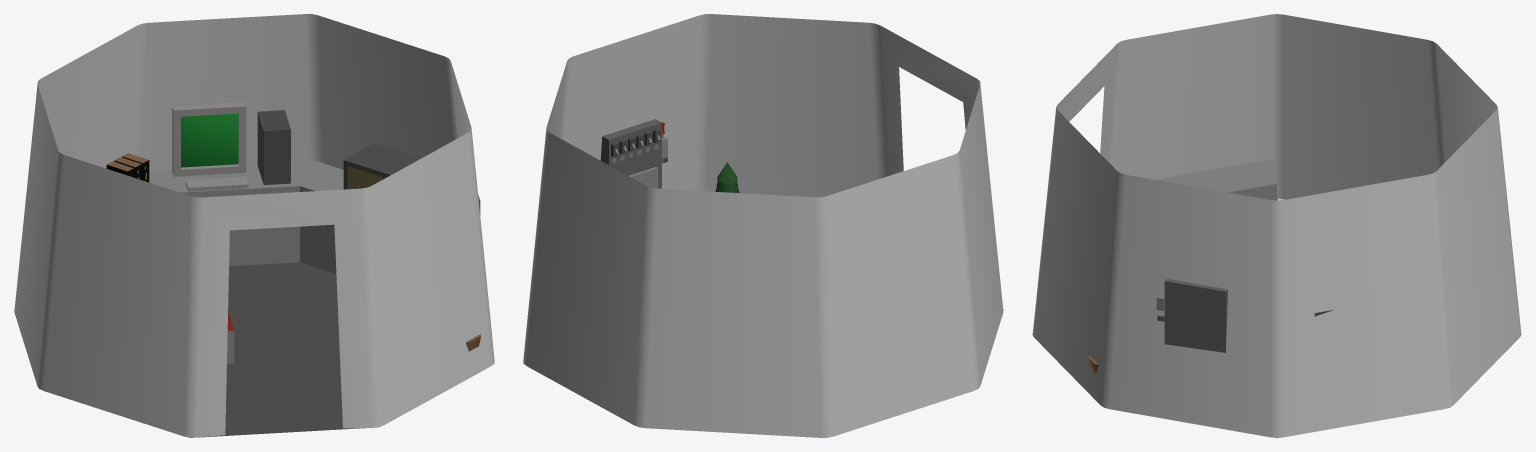
The model's file is Base Inside.fbx.
The picture shows the model from 3 angles, left to right: view 1: azimuth 30°, elevation 25°; view 2: azimuth 150°, elevation 25°; view 3: azimuth 270°, elevation 25°; orthographic projection.
Parts seen in each view (by area): view 1: Object043; view 2: Object043; view 3: Object043.
Part boxes in pixels (x1,y1,x2,y2): Object043: (14,14,494,437); Object043: (523,14,1003,437); Object043: (1032,14,1521,437).
Size of the model in its own units: 148 by 75.87 by 148.
Materials: 1 (1 with a texture image).
